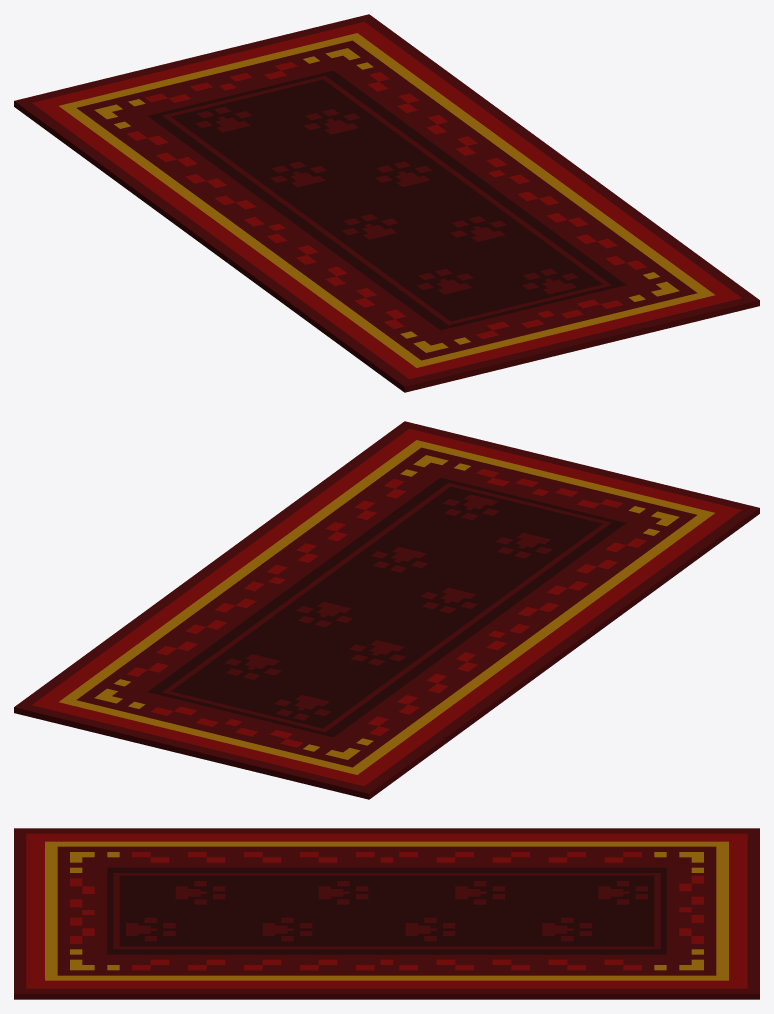
Rendered from Carpet.obj.
The picture shows the model from 3 angles, top to bottom: view 1: azimuth 30°, elevation 25°; view 2: azimuth 150°, elevation 25°; view 3: azimuth 270°, elevation 25°; orthographic projection. The views are drawn at different scales.
Bounding box in the file's own units: 6.3 × 0.1 × 12.
Materials: 1 (1 with a texture image).
